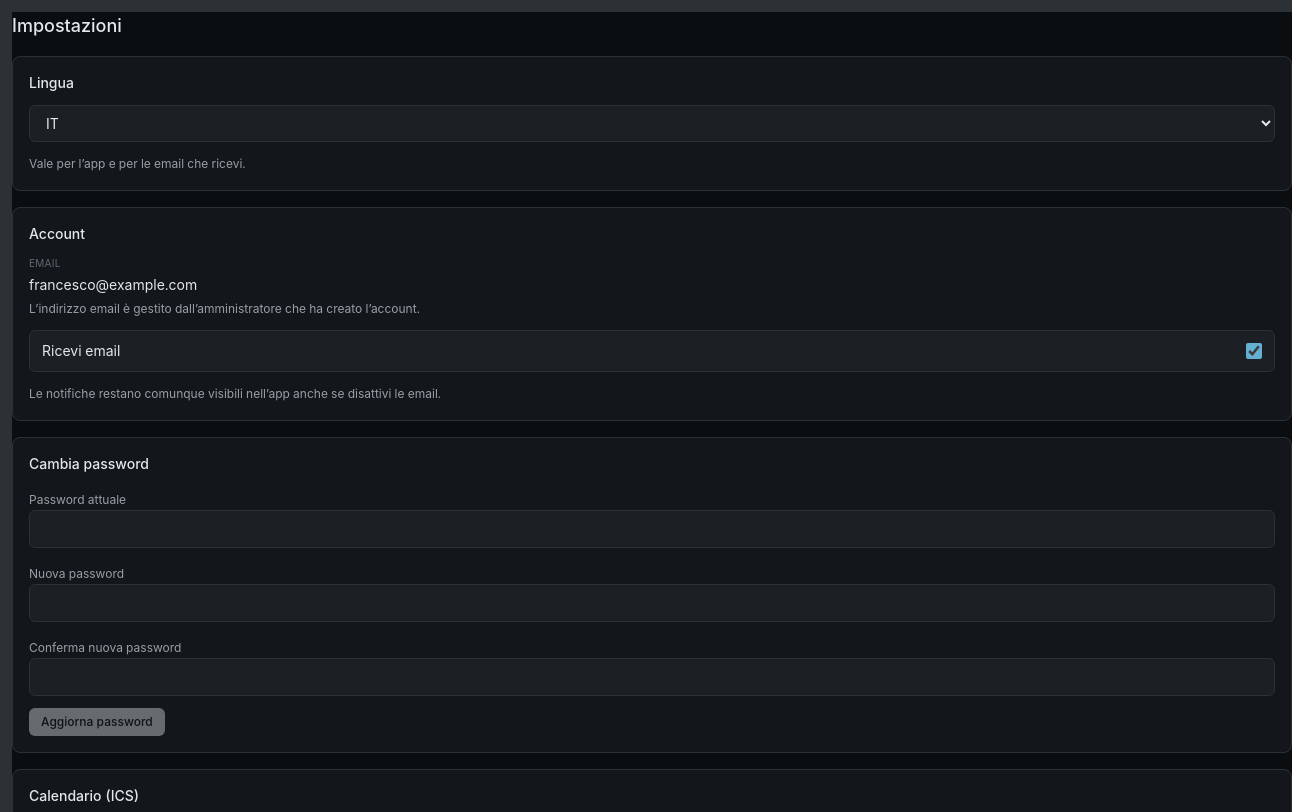
changing the language PATCHes /me/settings and switches the UI (§9)
This screenshot has width=1292, height=812.
Select "EN" in the dropdown named "Lingua" at [652, 124], box [29, 105, 1275, 142]
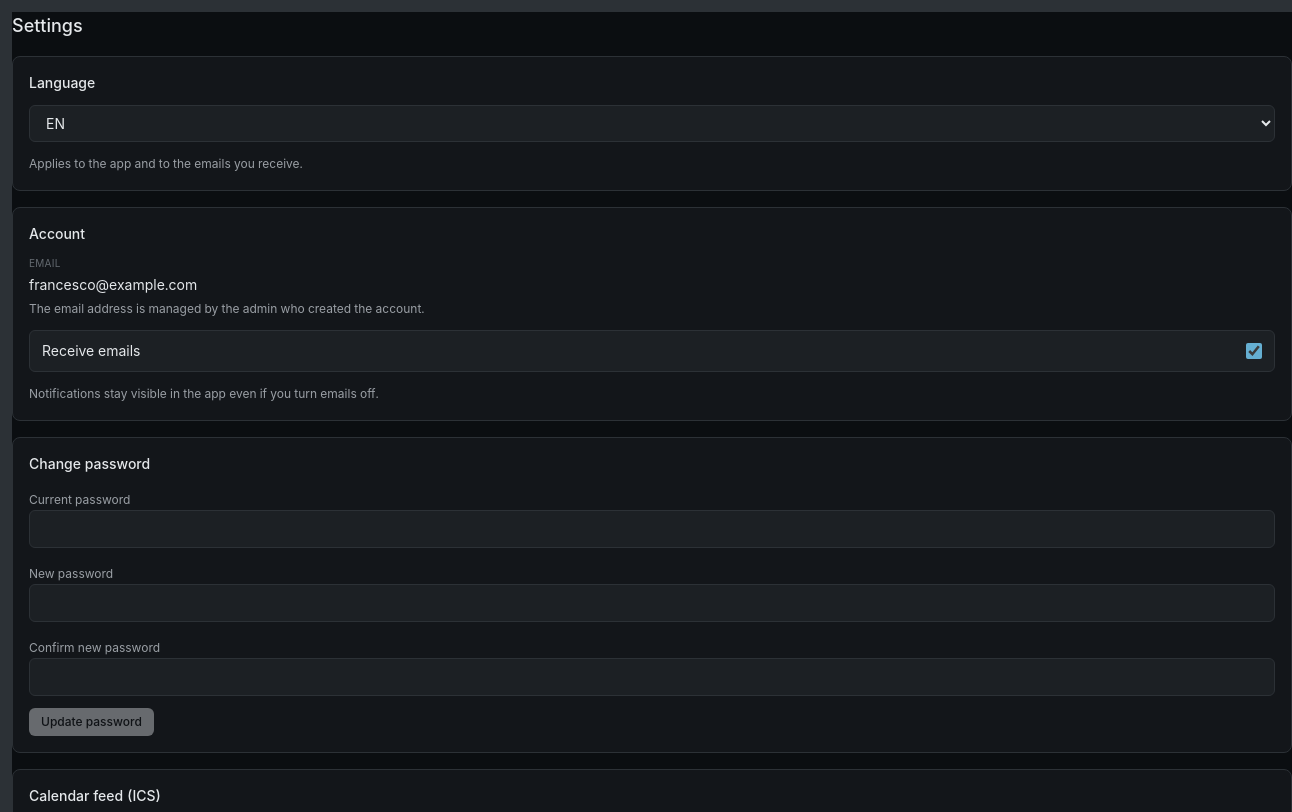
Expected: the heading "Change password" is shown, [29, 454, 150, 472]
